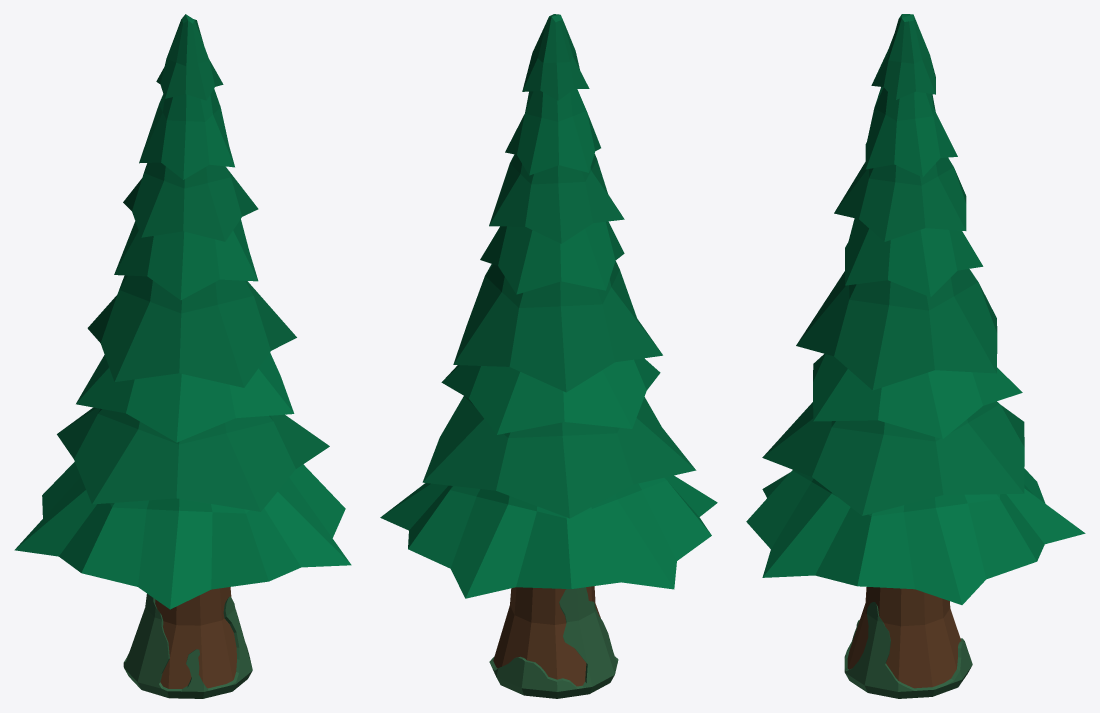
The model's file is Tree1.fbx.
3 renders of one model, left to right at view 1: azimuth 30°, elevation 25°; view 2: azimuth 150°, elevation 25°; view 3: azimuth 270°, elevation 25°, orthographic.
Parts seen in each view (by area): view 1: Cylinder.001; view 2: Cylinder.001; view 3: Cylinder.001.
Boxes of the visible parts, x1,y1,x2,y2 form: Cylinder.001: [14, 14, 351, 698]; Cylinder.001: [380, 14, 717, 698]; Cylinder.001: [746, 14, 1085, 698].
Bounding box in the file's own units: 550 × 1186 × 549.
